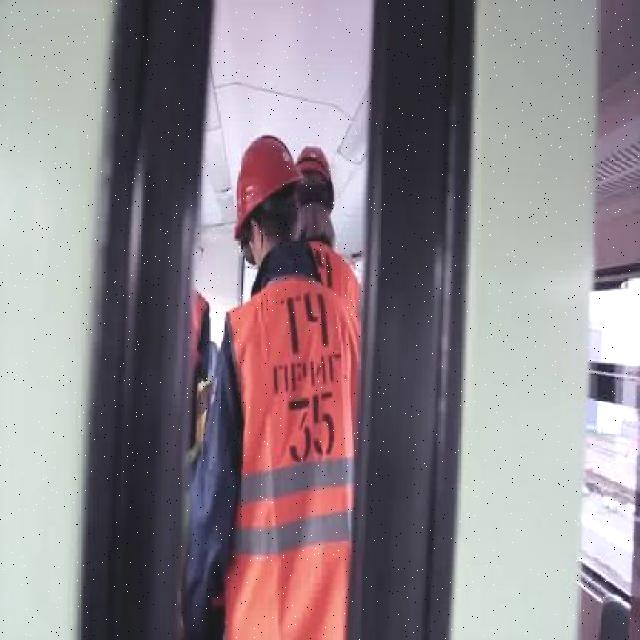Helmet: (232, 134, 302, 238), (298, 147, 334, 187)
Mask: (224, 277, 356, 640)
